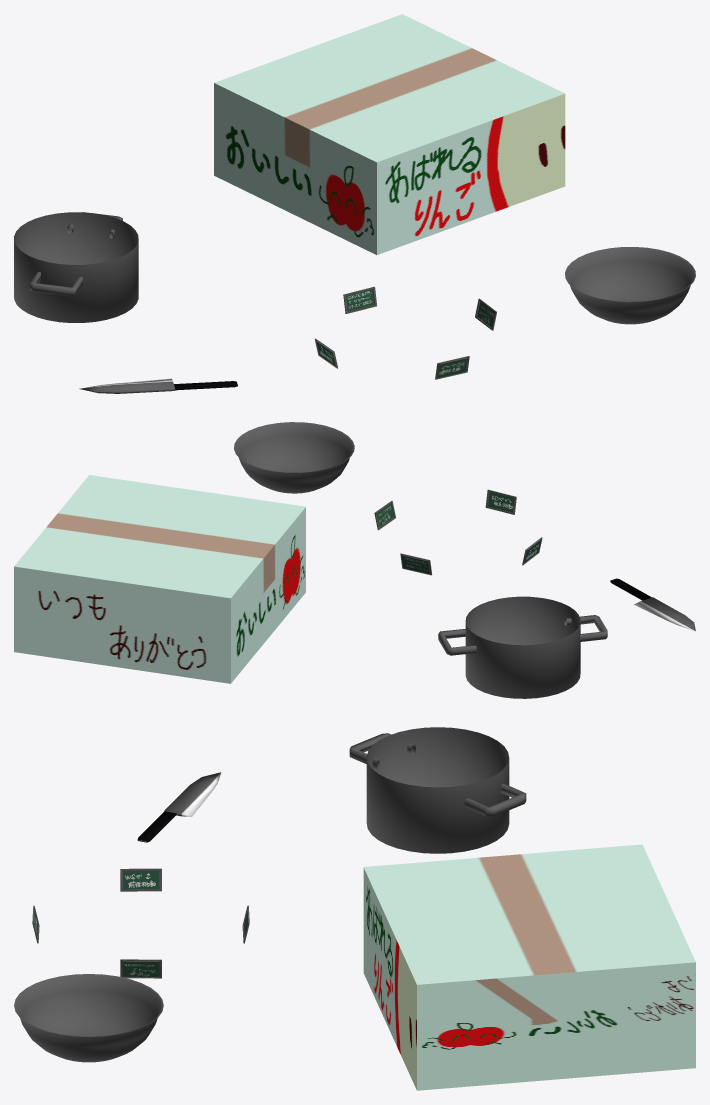
The model's file is backGround.obj.
The picture shows the model from 3 angles, top to bottom: view 1: azimuth 30°, elevation 25°; view 2: azimuth 150°, elevation 25°; view 3: azimuth 270°, elevation 25°; orthographic projection. The views are drawn at different scales.
Visible parts, largest first — view 1: Cylinder; view 2: Cylinder; view 3: Cylinder.
Part boxes in pixels (bbox=[...]): Cylinder: bbox=[14, 14, 695, 393]; Cylinder: bbox=[14, 422, 695, 698]; Cylinder: bbox=[14, 727, 695, 1090].
Size of the model in its own units: 531 by 83.3 by 480.
